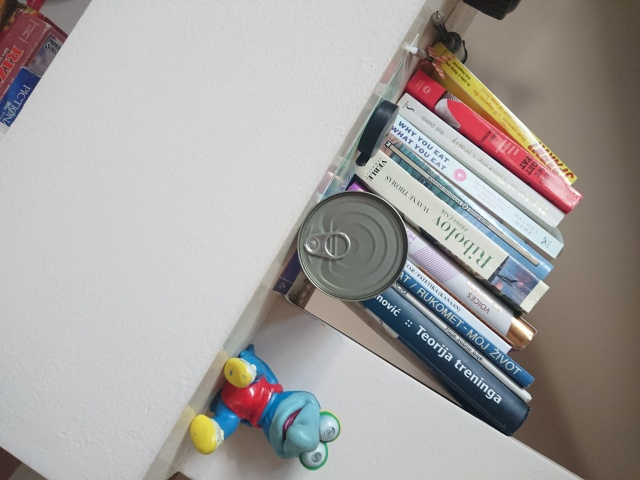Giana Tuna Salad Mexico 185g: (293, 187, 411, 305)
